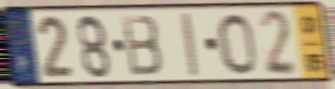2: (258, 8, 299, 79), (38, 13, 78, 81)
8: (76, 12, 112, 80)
B: (119, 13, 165, 79)
I: (179, 11, 201, 79)
O: (215, 11, 259, 77)
